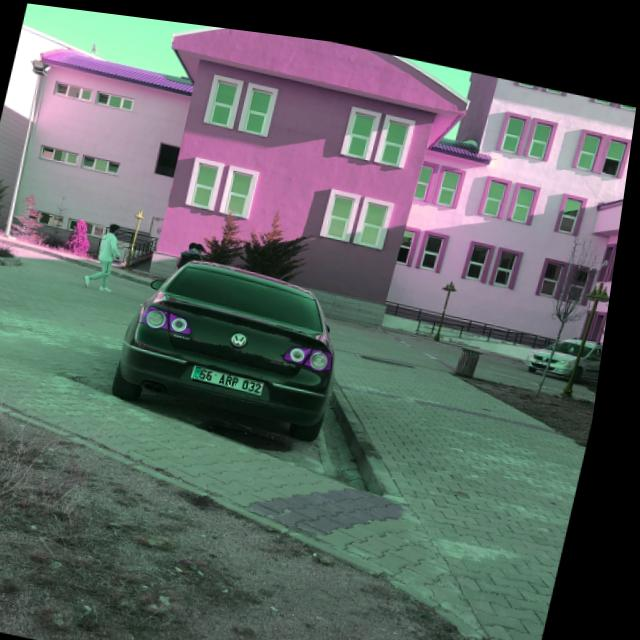license_plate: (201, 359, 274, 387)
